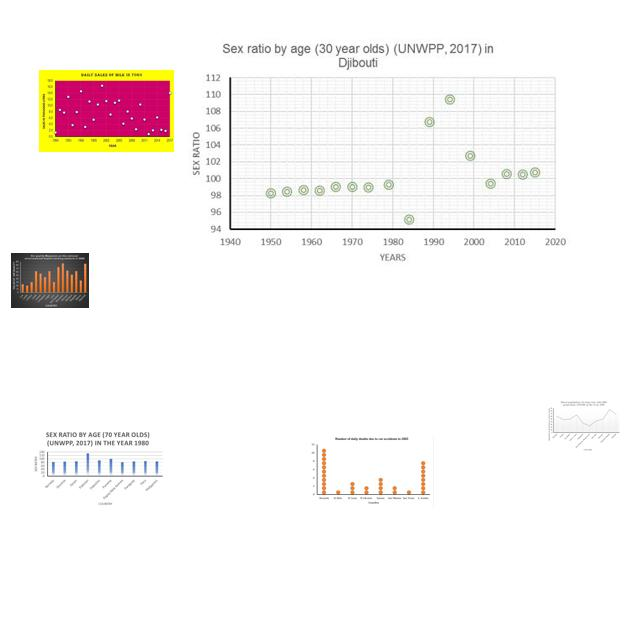Graph: (182, 38, 574, 267), (39, 70, 174, 152), (31, 429, 165, 507), (310, 435, 434, 508), (11, 253, 89, 308), (547, 400, 620, 451)
